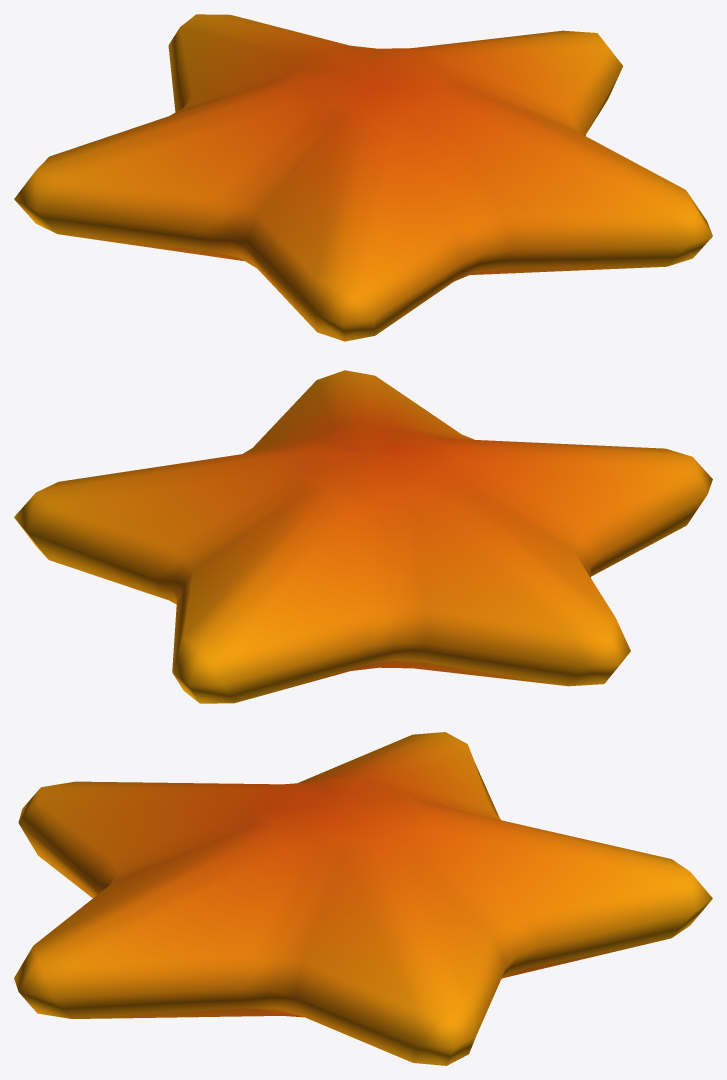
File: star.fbx
The picture shows the model from 3 angles, top to bottom: view 1: azimuth 30°, elevation 25°; view 2: azimuth 150°, elevation 25°; view 3: azimuth 270°, elevation 25°; orthographic projection.
Visible parts, largest first — view 1: deniz_yildizi; view 2: deniz_yildizi; view 3: deniz_yildizi.
Boxes of the visible parts, x1,y1,x2,y2 form: deniz_yildizi: (14, 14, 712, 341); deniz_yildizi: (14, 370, 712, 703); deniz_yildizi: (14, 732, 712, 1065).
Bounding box in the file's own units: 273 × 81.73 × 271.
